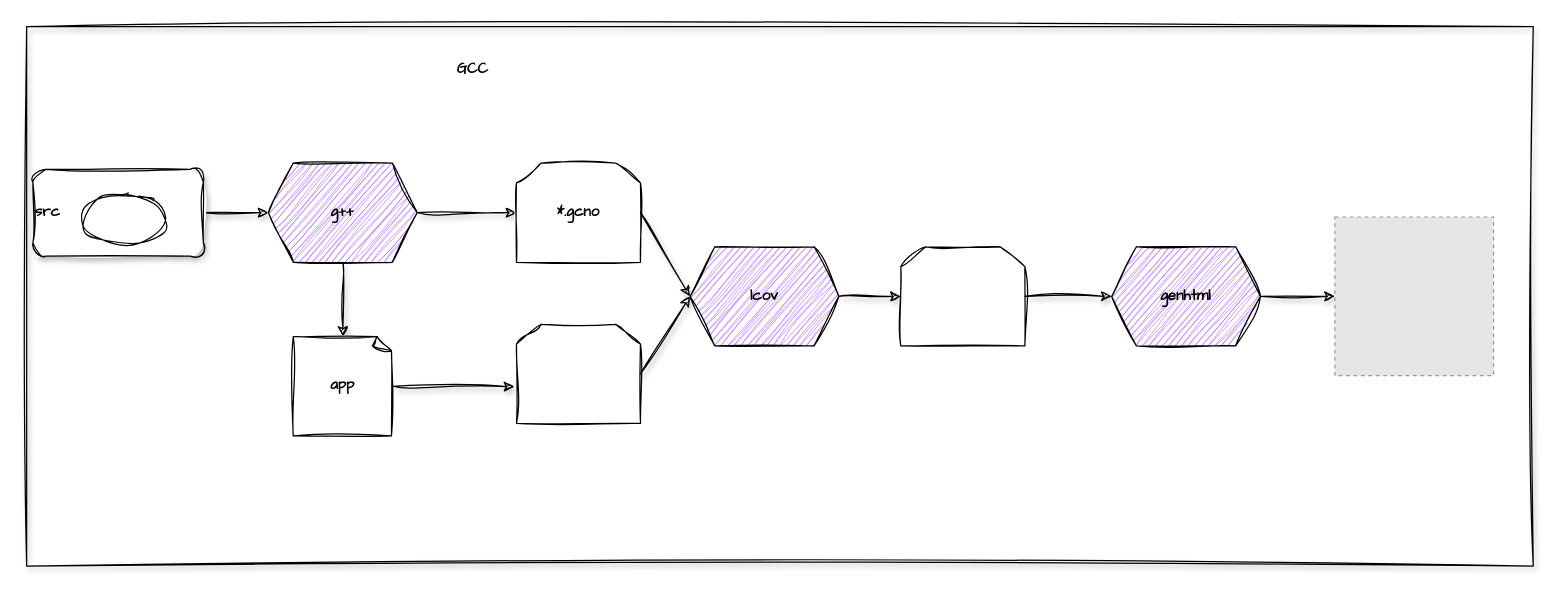
Image size: 1562x596. Some labels were removed from this diagram. Grey dashed boxes stand in for pictures. The centre of each missing label's shape, as x and y in pixels:
*.gcda: point (577, 373)
*.info: point (962, 296)
GoogleTest: point (124, 218)
